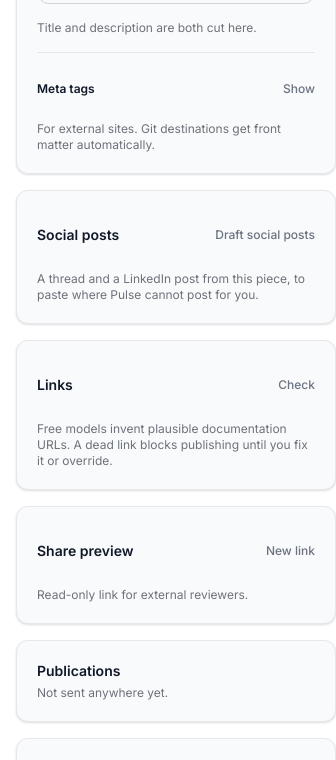
Test: the link check › checks on demand and then offers to re-check
(page scrolled)
Click the button "Check" at point(297, 384), box [268,360,325,408]
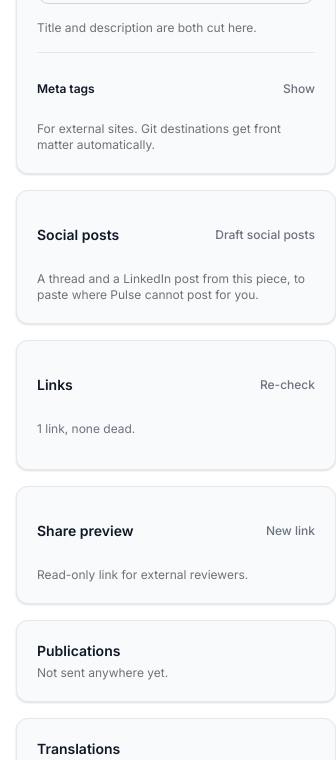
Expected: the button "Re-check" is shown, [250,360,325,408]
